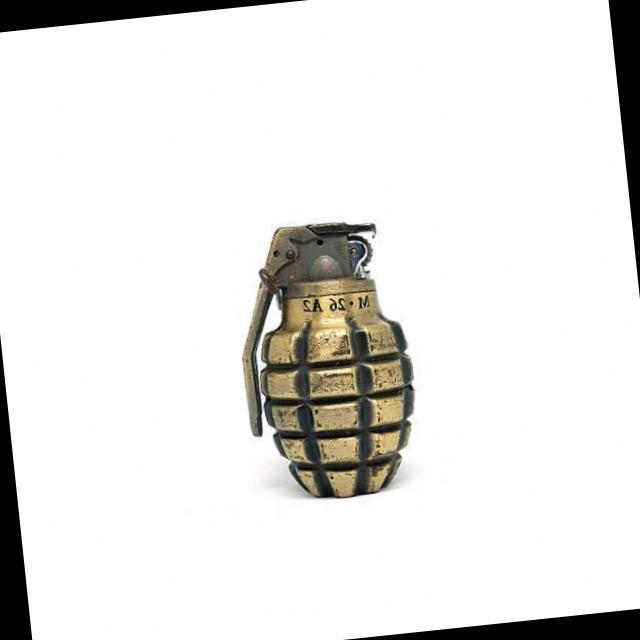grenade: (223, 207, 431, 506)
